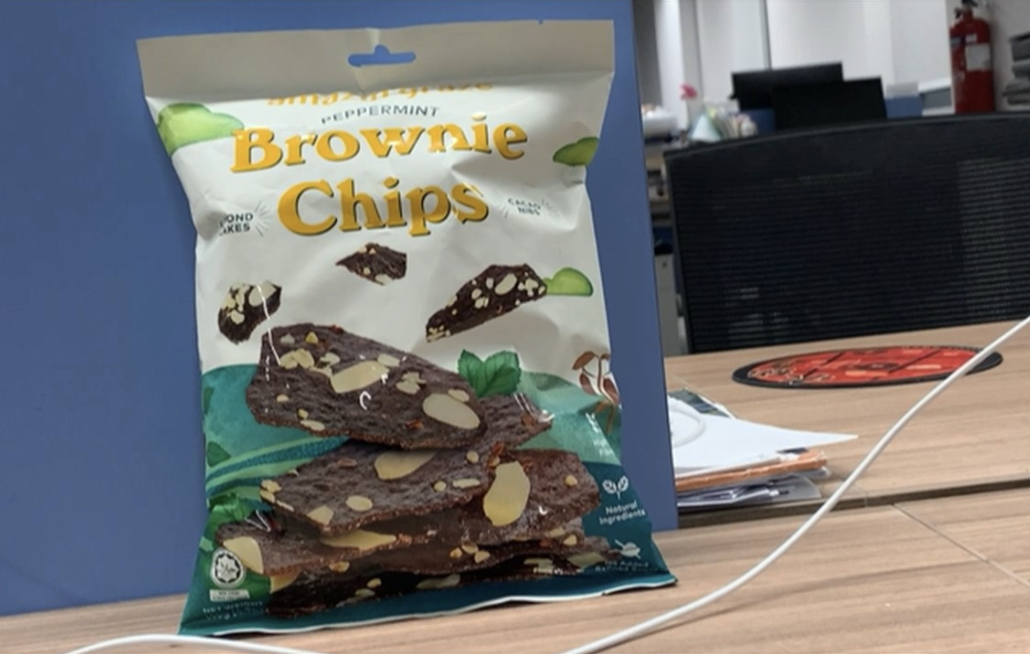crackers_150g: (197, 99, 597, 603)
